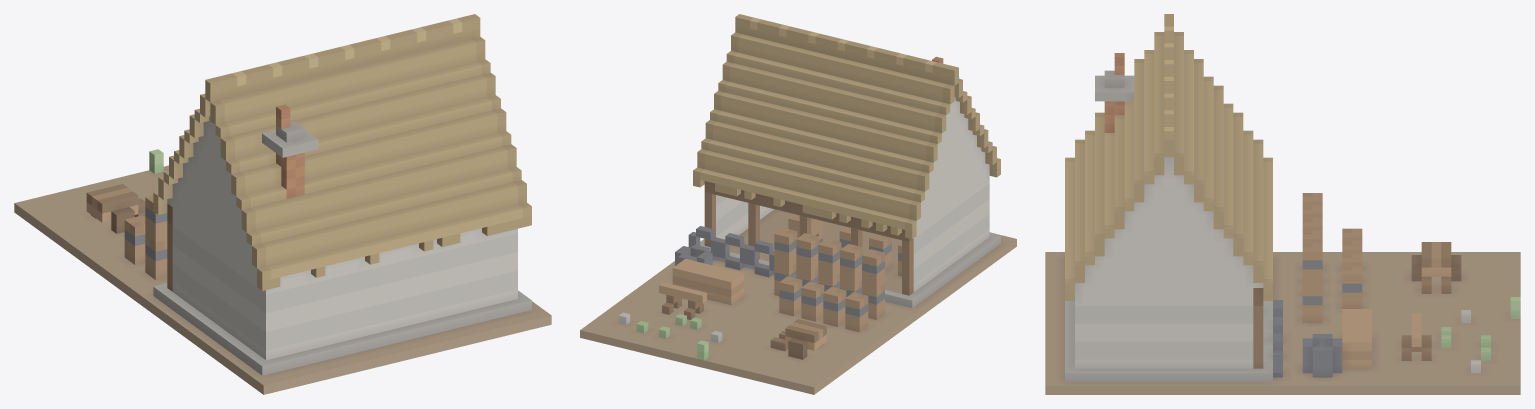
The model's file is cooperage.glb.
3 renders of one model, left to right at view 1: azimuth 30°, elevation 25°; view 2: azimuth 150°, elevation 25°; view 3: azimuth 270°, elevation 25°, orthographic. The views are drawn at different scales.
Visible parts, largest first — view 1: cooperage; view 2: cooperage; view 3: cooperage.
Part boxes in pixels (left/top/right/bottom): cooperage: left=14, top=14, right=551, bottom=394; cooperage: left=580, top=14, right=1016, bottom=394; cooperage: left=1045, top=14, right=1520, bottom=394.
Size of the model in its own units: 4 by 3.5 by 6.
